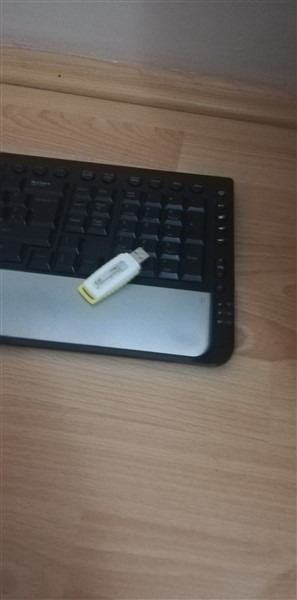flash disk: (71, 244, 152, 310)
klavye: (2, 148, 260, 383)
